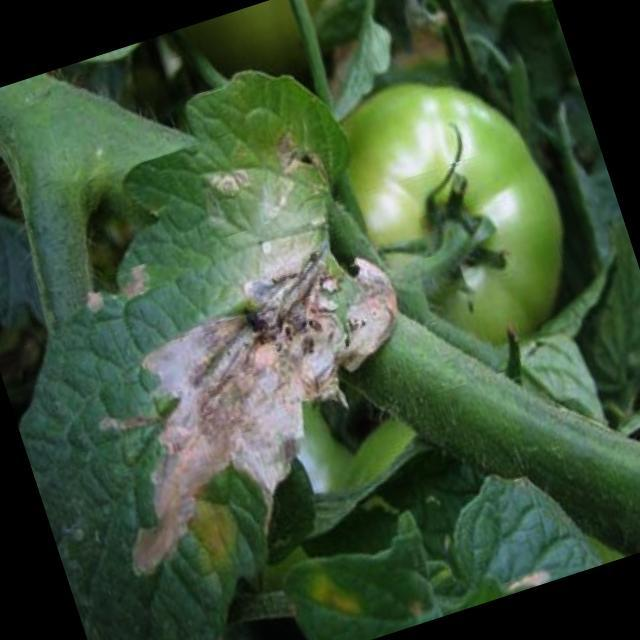Tomato target spot leaf: (18, 72, 399, 640)
